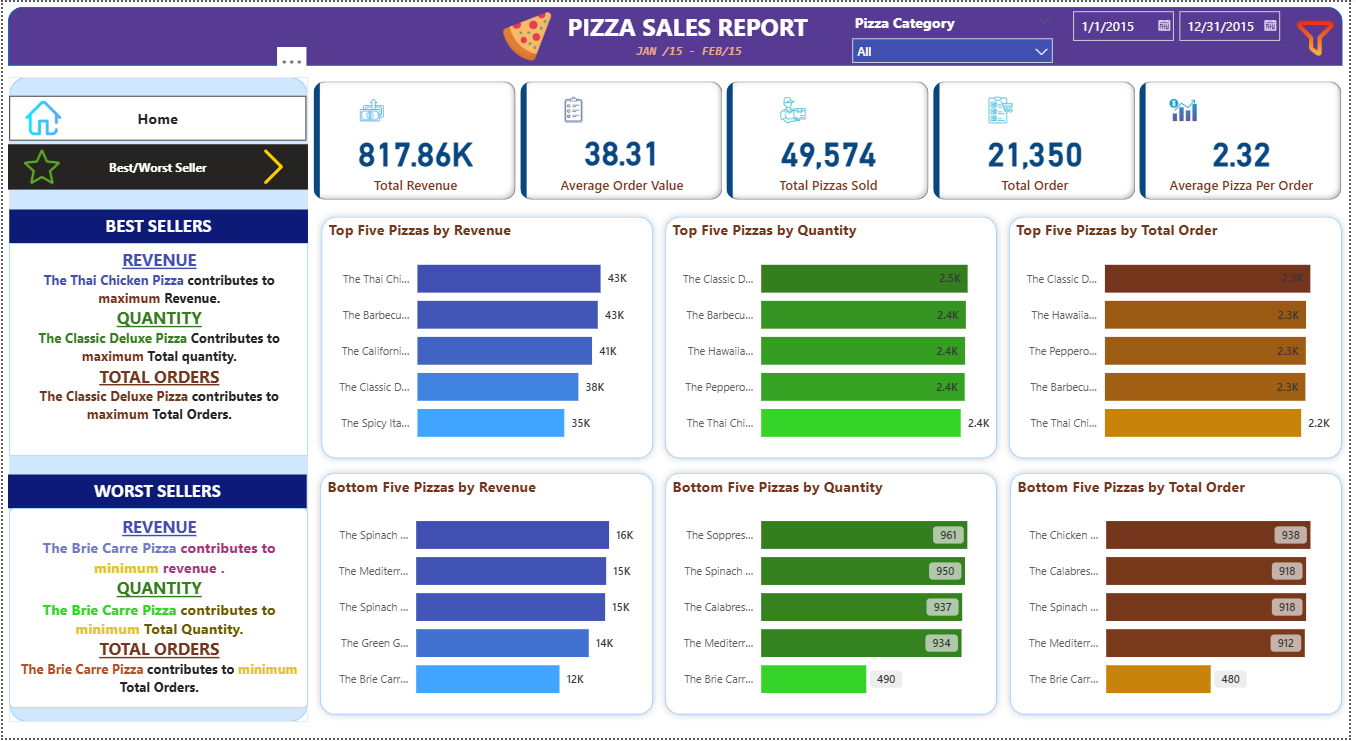

This screenshot's page, from the dashboard's own definition file:
{"tool":"powerbi","page":{"name":"Best/Worst Seller","canvas":[1500,820],"ordinal":1},"visuals":[{"type":"cardVisual","fields":{"Data":["Pizza_Sales.Total Revenue","Pizza_Sales.Average Order Value","Pizza_Sales.Total Pizza Sold","Pizza_Sales.Total Order","Pizza_Sales.Average Pizza Per Order"]},"box":[341.1,83.5,1158.3,142],"z":0},{"type":"shape","box":[5.6,5.6,1486.9,65.4],"z":1000},{"type":"textbox","box":[623.7,4.2,321.6,45.9],"z":2000},{"type":"textbox","box":[700.3,40.4,136.4,32],"z":3000},{"type":"shape","box":[346.7,231.1,385.6,285.4],"z":4000},{"type":"shape","box":[7,83.5,332.7,718.4],"z":5000},{"type":"textbox","box":[7,231.1,332.7,37.6],"z":6000},{"type":"textbox","box":[7,268.7,332.7,236.7],"z":7000},{"type":"textbox","box":[5.6,526.2,332.7,37.6],"z":8000},{"type":"textbox","box":[7,563.8,332.7,222.8],"z":9000},{"type":"image","box":[548.5,5.6,71,65.4],"z":10000},{"type":"slicer","fields":{"Values":["Pizza_Sales.pizza_category"]},"box":[935.5,7,243.6,64],"z":11000},{"type":"slicer","fields":{"Values":["Pizza_Sales.order_date"]},"box":[1179.2,0,250.6,76.6],"z":12000},{"type":"image","box":[1428.4,4.2,66.8,71],"z":13000},{"type":"shape","box":[729.5,231.1,385.6,285.4],"z":14000},{"type":"shape","box":[1112.4,231.1,387,285.4],"z":15000},{"type":"shape","box":[1113.8,516.5,385.6,285.4],"z":16000},{"type":"shape","box":[729.5,516.5,385.6,285.4],"z":17000},{"type":"shape","box":[345.3,516.5,387,285.4],"z":18000},{"type":"barChart","title":"Top Five Pizzas by Revenue","fields":{"Category":["Pizza_Sales.pizza_name"],"Y":["Pizza_Sales.Total Revenue"]},"box":[357.8,242.2,363.4,264.5],"z":19000},{"type":"barChart","title":"Bottom Five Pizzas by Revenue","fields":{"Category":["Pizza_Sales.pizza_name"],"Y":["Pizza_Sales.Total Revenue"]},"box":[356.4,527.6,363.4,264.5],"z":20000},{"type":"barChart","title":"Top Five Pizzas by Total Order","fields":{"Category":["Pizza_Sales.pizza_name"],"Y":["Pizza_Sales.Total Order"]},"box":[1123.5,242.2,363.4,264.5],"z":21000},{"type":"barChart","title":"Top Five Pizzas by Quantity","fields":{"Category":["Pizza_Sales.pizza_name"],"Y":["Pizza_Sales.Total Pizzas Sold"]},"box":[740.6,242.2,363.4,264.5],"z":22000},{"type":"barChart","title":"Bottom Five Pizzas by Quantity","fields":{"Category":["Pizza_Sales.pizza_name"],"Y":["Pizza_Sales.Total Pizzas Sold"]},"box":[740.6,527.6,363.4,264.5],"z":23000},{"type":"barChart","title":"Bottom Five Pizzas by Total Order","fields":{"Category":["Pizza_Sales.pizza_name"],"Y":["Pizza_Sales.Total Order"]},"box":[1124.9,527.6,363.4,264.5],"z":24000},{"type":"pageNavigator","box":[7,104.4,331.3,50.1],"z":25000},{"type":"image","box":[15.3,104.4,58.5,50.1],"z":26000},{"type":"pageNavigator","box":[5.6,158.7,334.1,50.1],"z":27000},{"type":"image","box":[264.5,158.7,73.8,50.1],"z":28000},{"type":"image","box":[9.8,158.7,66.8,50.1],"z":29000}]}

Visuals, with their boxes in screenshot pixels (x1, y1, x2, y2), scaled from the page's 1500x820 canvas onto the 1356x741 screenshot:
cardVisual - Pizza_Sales.Total Revenue x Pizza_Sales.Average Order Value: (308, 75, 1355, 204)
shape: (5, 5, 1349, 64)
textbox: (564, 4, 855, 45)
textbox: (633, 37, 756, 65)
shape: (313, 209, 662, 467)
shape: (6, 75, 307, 725)
textbox: (6, 209, 307, 243)
textbox: (6, 243, 307, 457)
textbox: (5, 476, 306, 509)
textbox: (6, 509, 307, 711)
image: (496, 5, 560, 64)
slicer - Pizza_Sales.pizza_category: (846, 6, 1066, 64)
slicer - Pizza_Sales.order_date: (1066, 0, 1293, 69)
image: (1291, 4, 1352, 68)
shape: (659, 209, 1008, 467)
shape: (1006, 209, 1355, 467)
shape: (1007, 467, 1355, 725)
shape: (659, 467, 1008, 725)
shape: (312, 467, 662, 725)
"Top Five Pizzas by Revenue" barChart: (323, 219, 652, 458)
"Bottom Five Pizzas by Revenue" barChart: (322, 477, 651, 716)
"Top Five Pizzas by Total Order" barChart: (1016, 219, 1344, 458)
"Top Five Pizzas by Quantity" barChart: (670, 219, 998, 458)
"Bottom Five Pizzas by Quantity" barChart: (670, 477, 998, 716)
"Bottom Five Pizzas by Total Order" barChart: (1017, 477, 1345, 716)
pageNavigator: (6, 94, 306, 140)
image: (14, 94, 67, 140)
pageNavigator: (5, 143, 307, 189)
image: (239, 143, 306, 189)
image: (9, 143, 69, 189)
